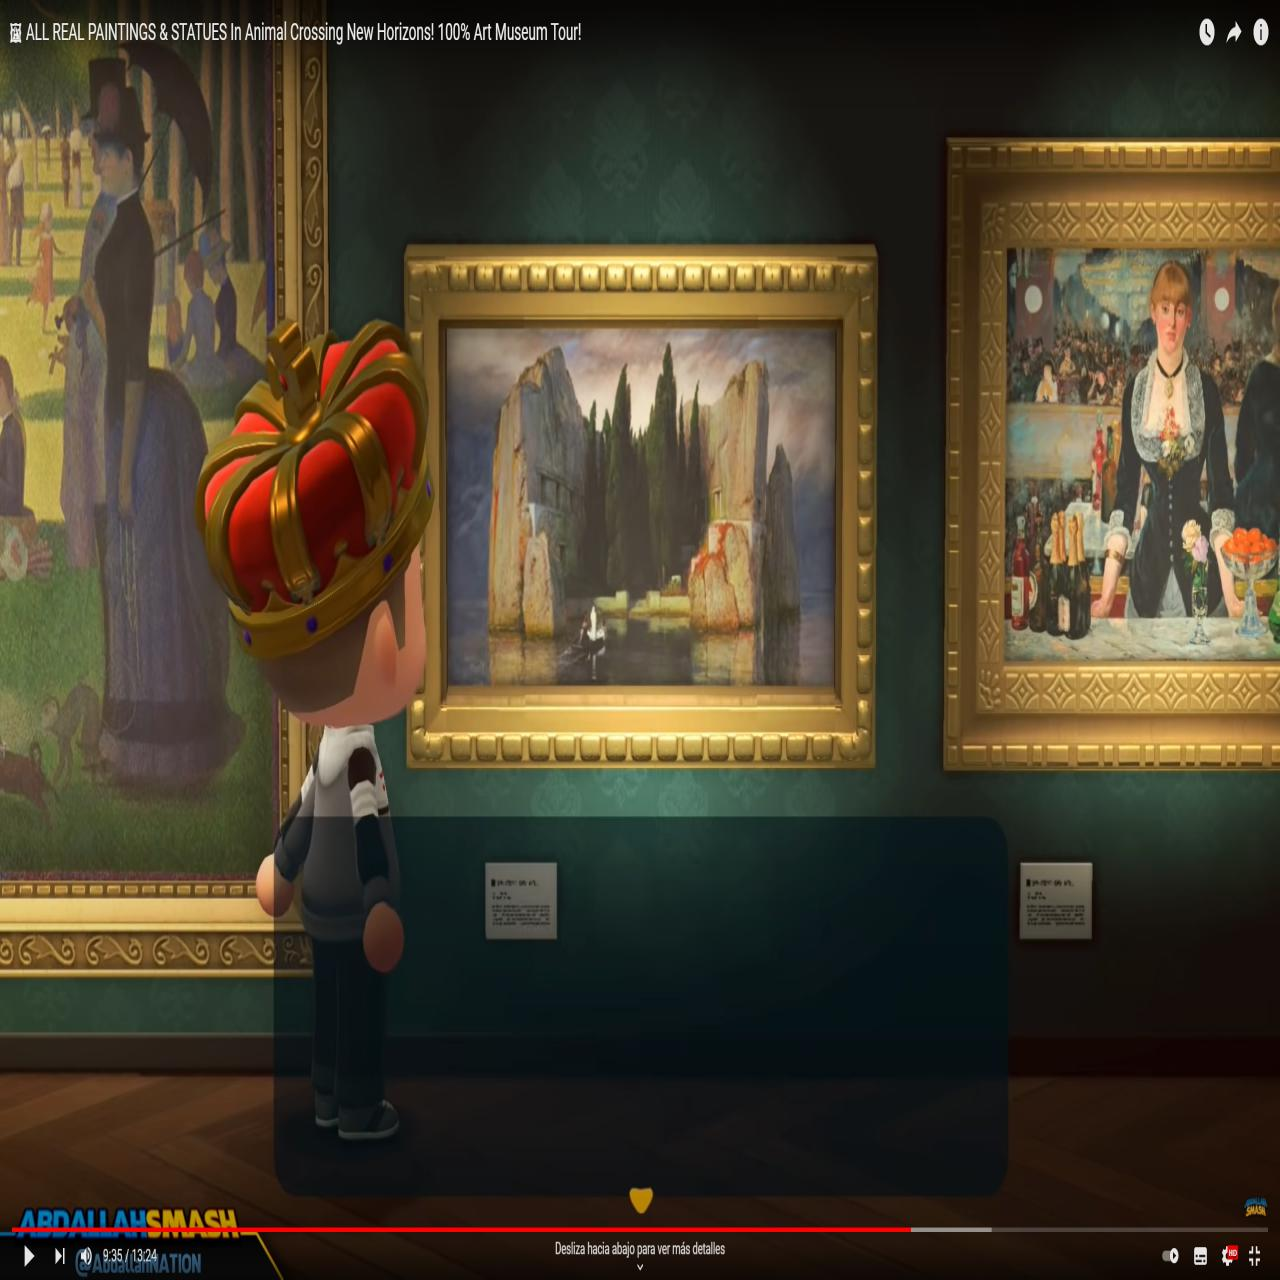BarFB: (1009, 252, 1280, 658)
IsleOfDead: (448, 331, 837, 688)
SundayOn: (1, 8, 274, 880)
